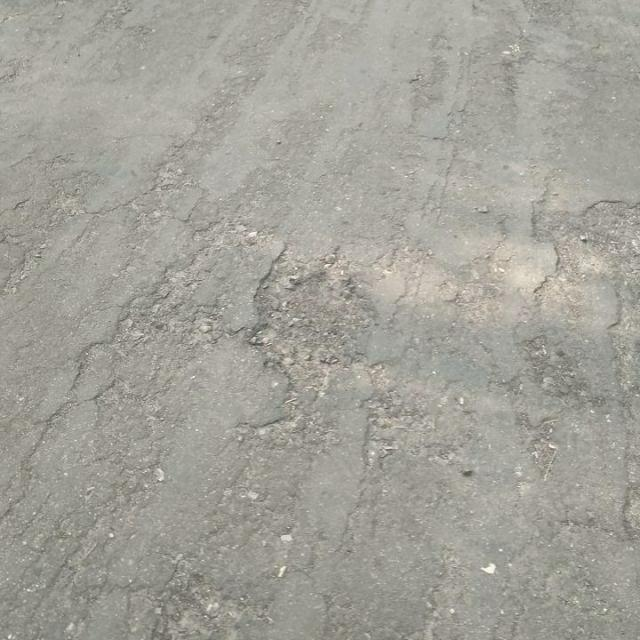Pothole: (247, 254, 388, 392), (151, 574, 270, 639), (553, 191, 640, 276)
